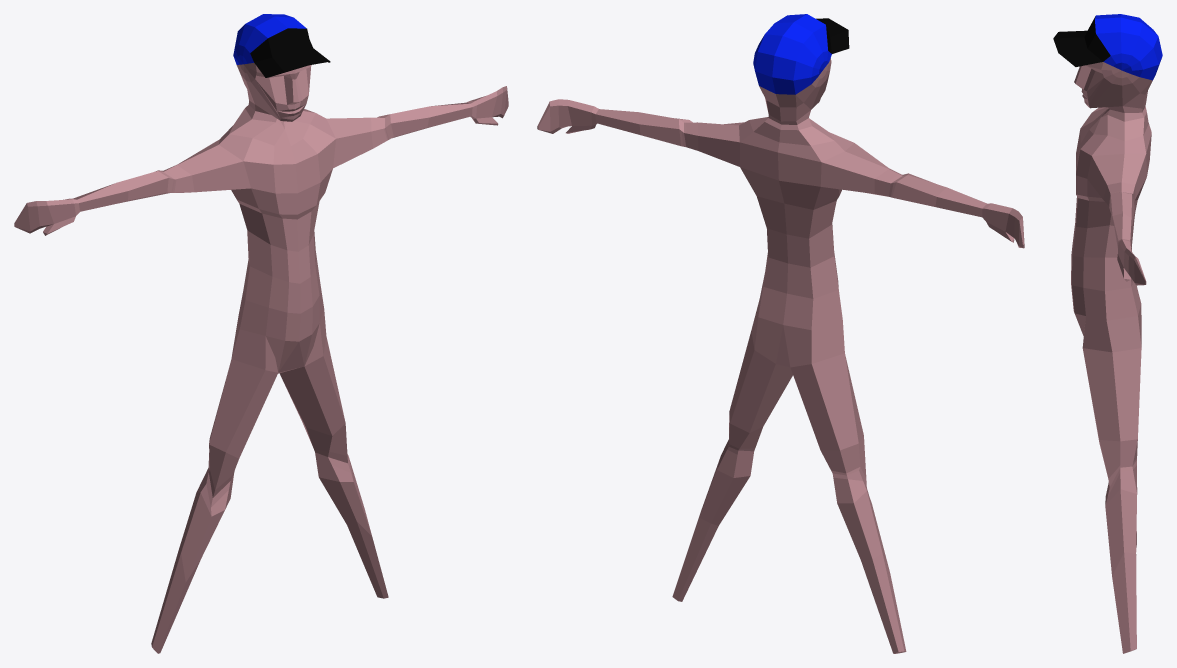
Rendered from Character.FBX.
3 renders of one model, left to right at view 1: azimuth 30°, elevation 25°; view 2: azimuth 150°, elevation 25°; view 3: azimuth 270°, elevation 25°, orthographic. The views are drawn at different scales.
Parts seen in each view (by area): view 1: Character; view 2: Character; view 3: Character.
Part boxes in pixels (x1,y1,x2,y2): Character: [14, 14, 508, 653]; Character: [537, 14, 1024, 653]; Character: [1053, 14, 1162, 653].
Size of the model in its own units: 142 by 167 by 28.5.
